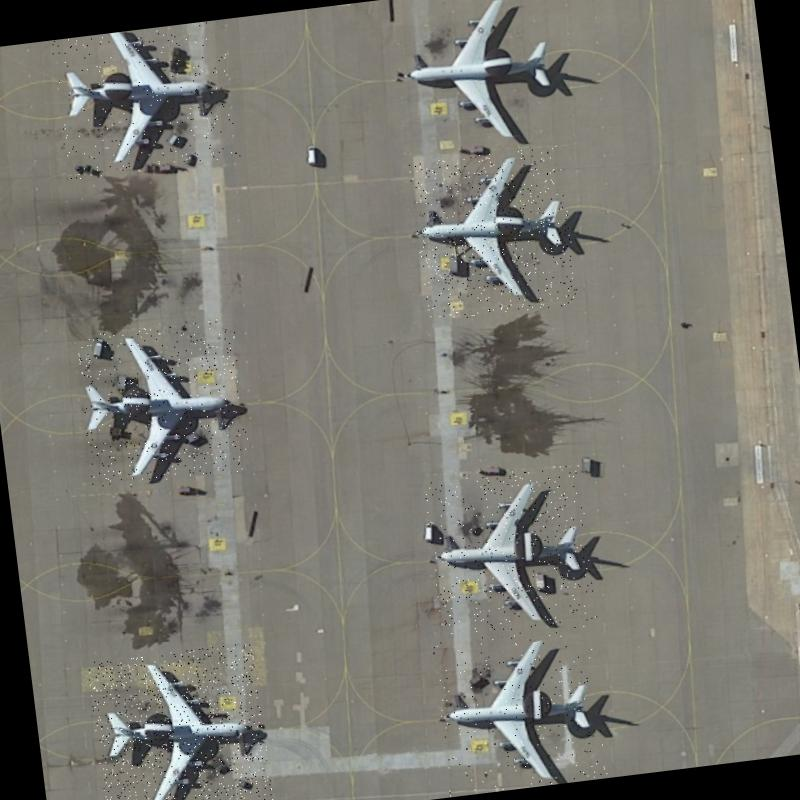A7: (423, 462, 597, 638), (74, 317, 252, 489), (431, 624, 608, 796), (51, 20, 241, 180), (408, 145, 578, 322), (86, 642, 273, 800), (394, 0, 570, 158)
